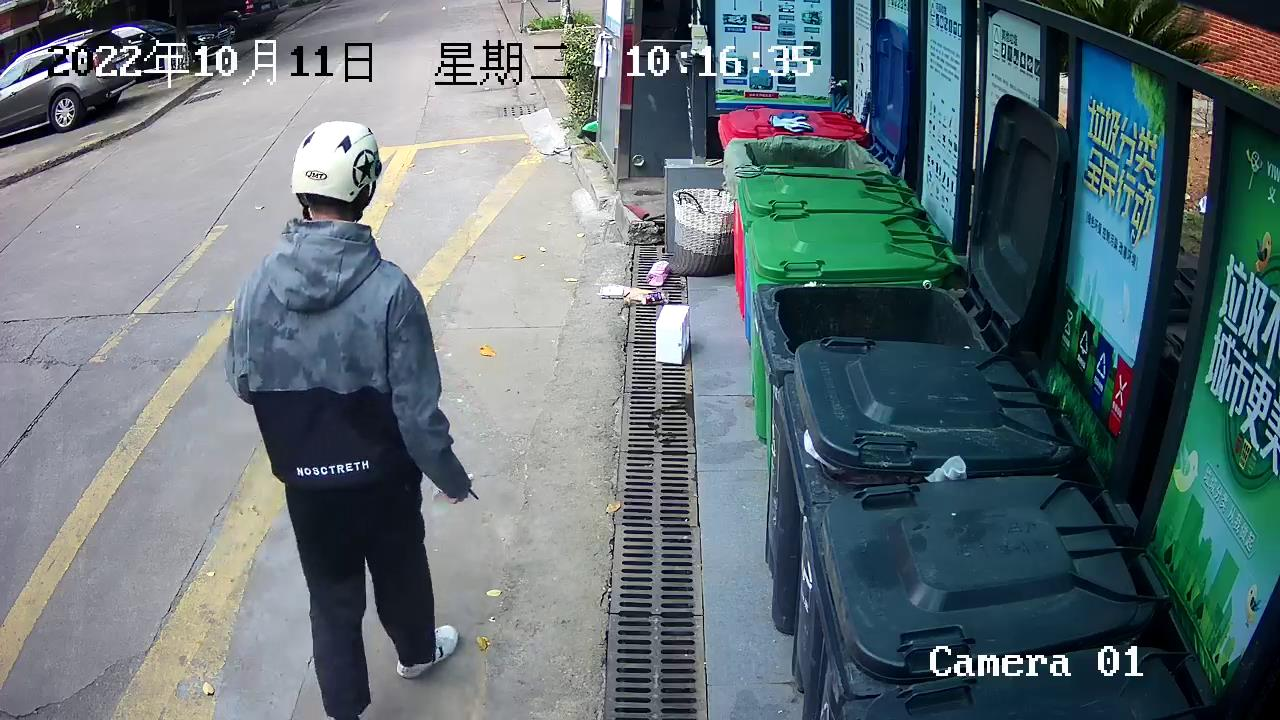person: (215, 114, 486, 720)
suliaozhipin: (641, 256, 672, 290)
zhizhipin: (652, 299, 697, 369)
